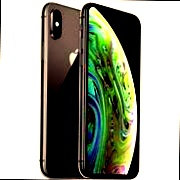iphone: (74, 5, 146, 180)
